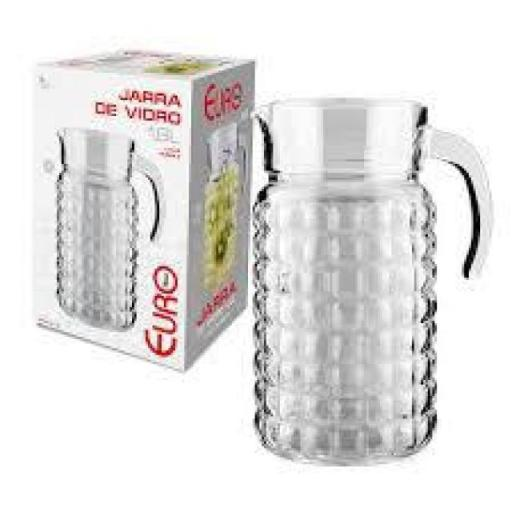glass: (249, 99, 496, 468), (54, 128, 165, 330)
